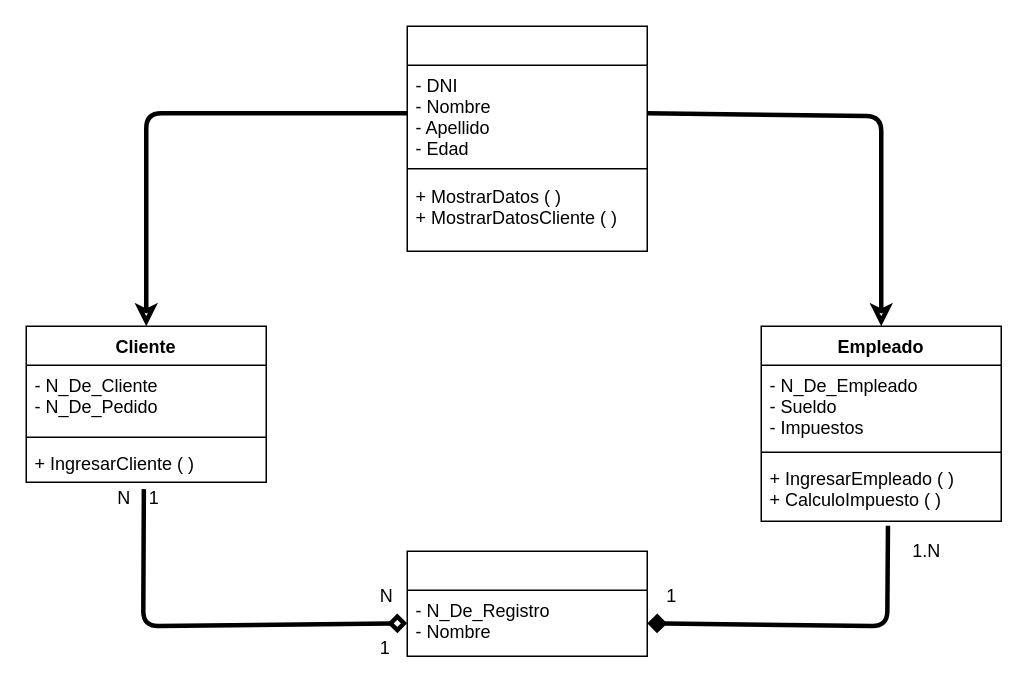
Image size: 1028x698. Some labels were removed from this diagram. Here are the shapes that lost their labels. From the top down, the box of each, then its label:
(406, 25, 647, 251): Persona
(406, 550, 647, 656): Empresa
